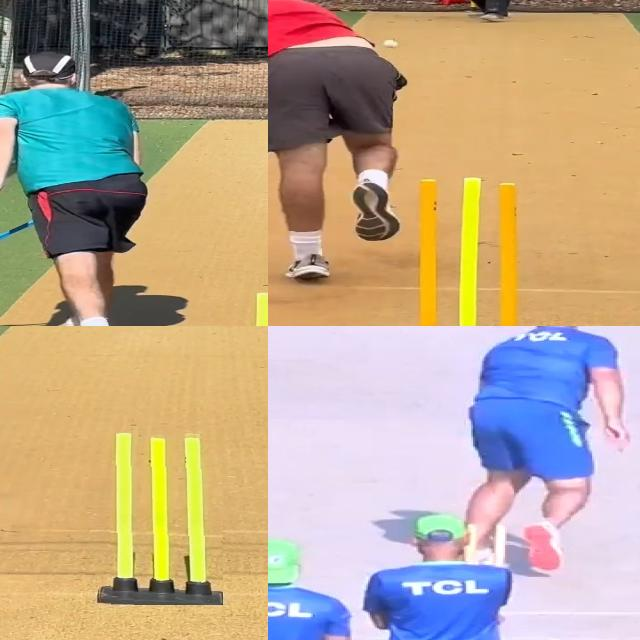Cricket ball: (381, 38, 400, 49)
Stumps: (98, 430, 224, 605), (400, 177, 537, 326)
